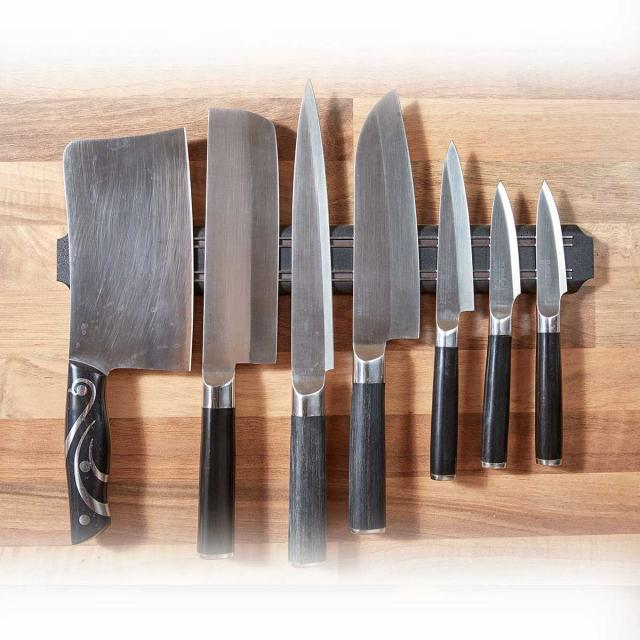cleaver: (62, 121, 194, 542), (203, 102, 280, 570)
knife: (346, 80, 413, 544), (291, 76, 334, 579), (426, 125, 480, 496), (481, 177, 527, 484), (535, 178, 568, 479)
